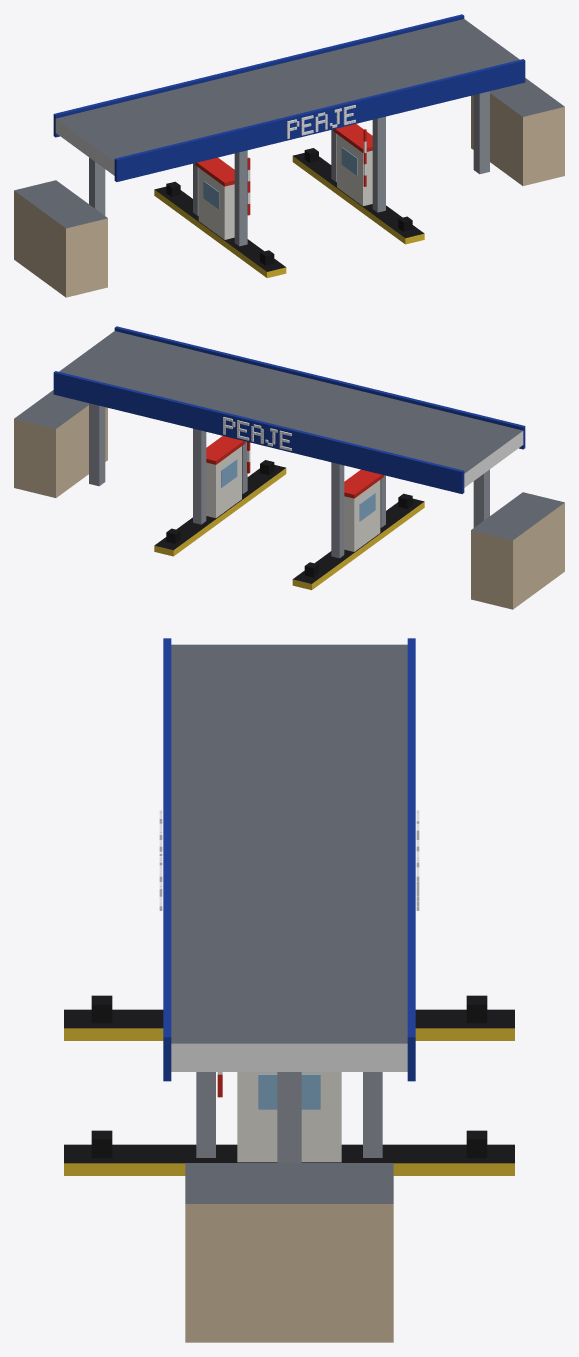
Rendered from peaje.obj.
The picture shows the model from 3 angles, top to bottom: view 1: azimuth 30°, elevation 25°; view 2: azimuth 150°, elevation 25°; view 3: azimuth 270°, elevation 25°; orthographic projection. The views are drawn at different scales.
Parts seen in each view (by area): view 1: peaje; view 2: peaje; view 3: peaje.
Part boxes in pixels (x1=…): peaje: x1=14, y1=14, x2=564, y2=297; peaje: x1=14, y1=326, x2=564, y2=609; peaje: x1=64, y1=638, x2=514, y2=1342.
Bounding box in the file's own units: 16.6 × 4.15 × 6.5.
